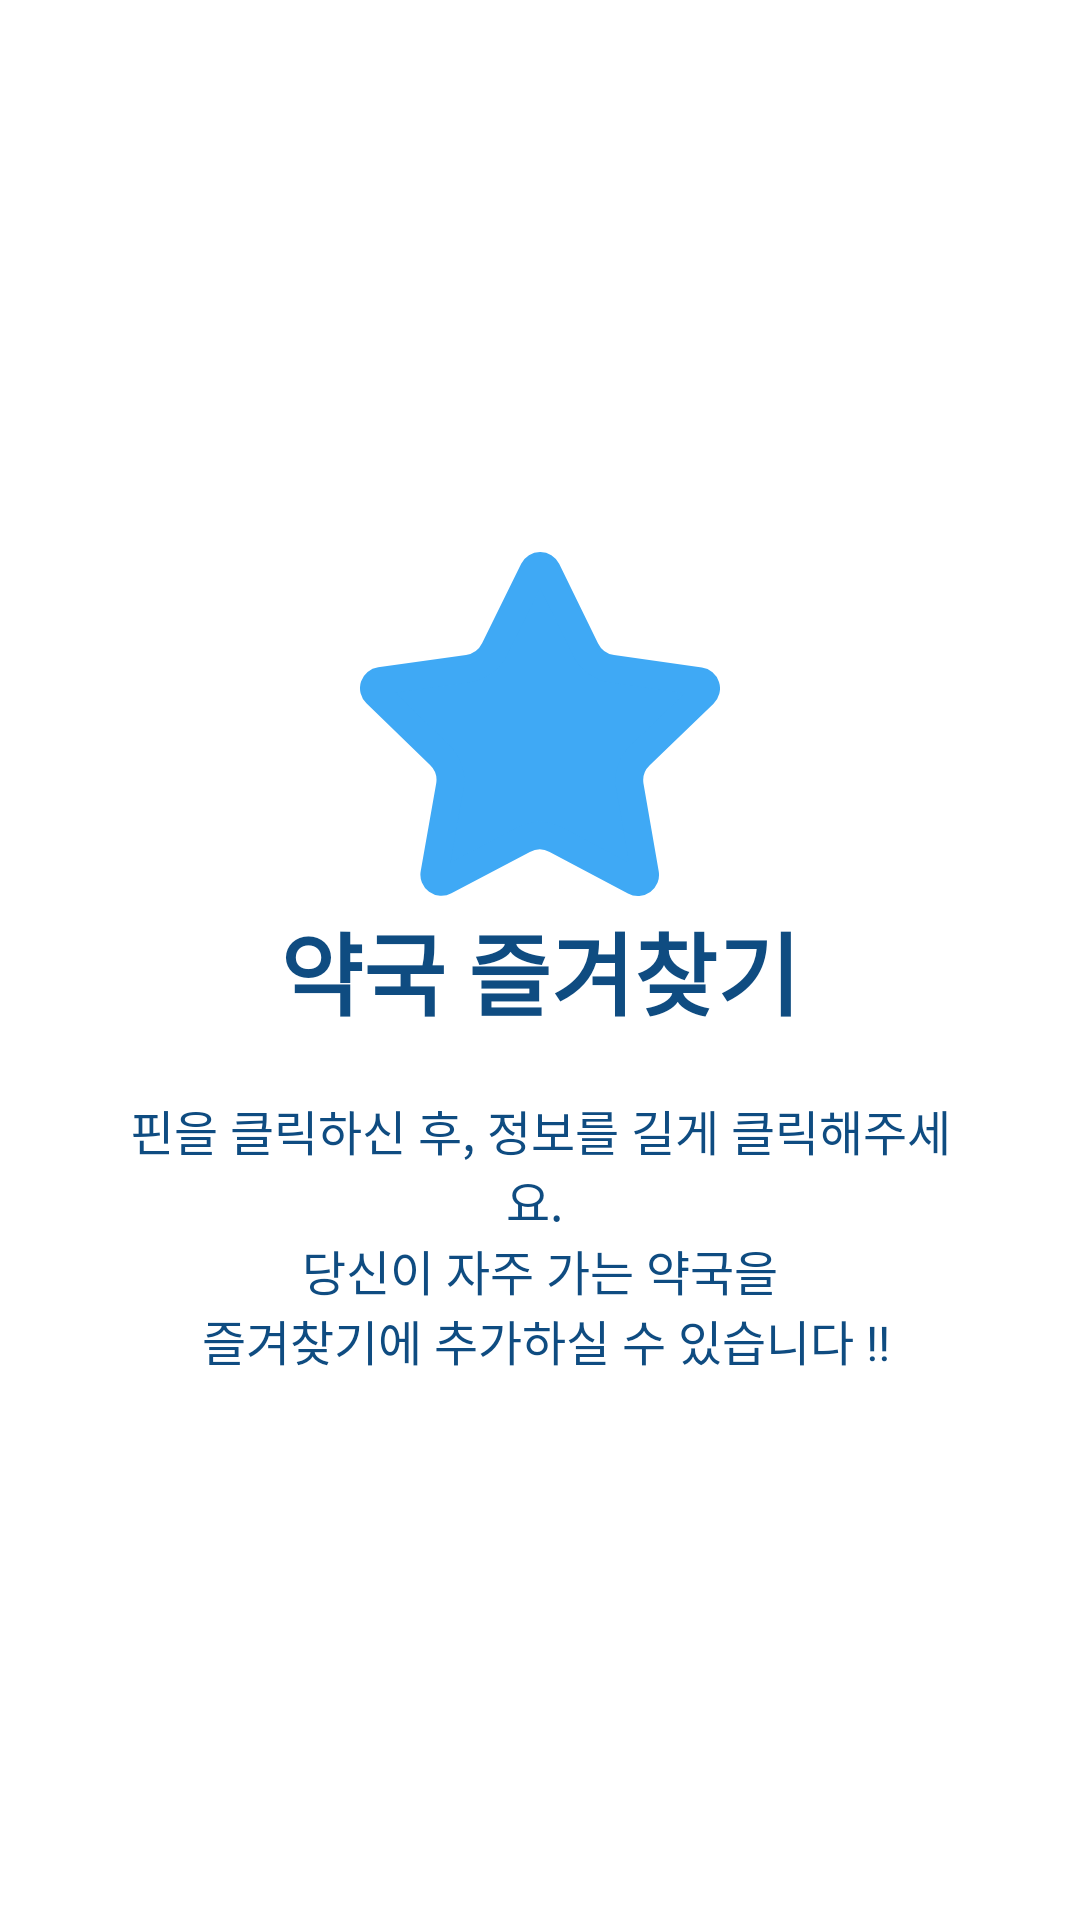

Icon bounding boxes for this 1080×1920 phone screenshot, format BBox(x1, y1, x2, y2):
star: BBox(360, 552, 720, 896)
